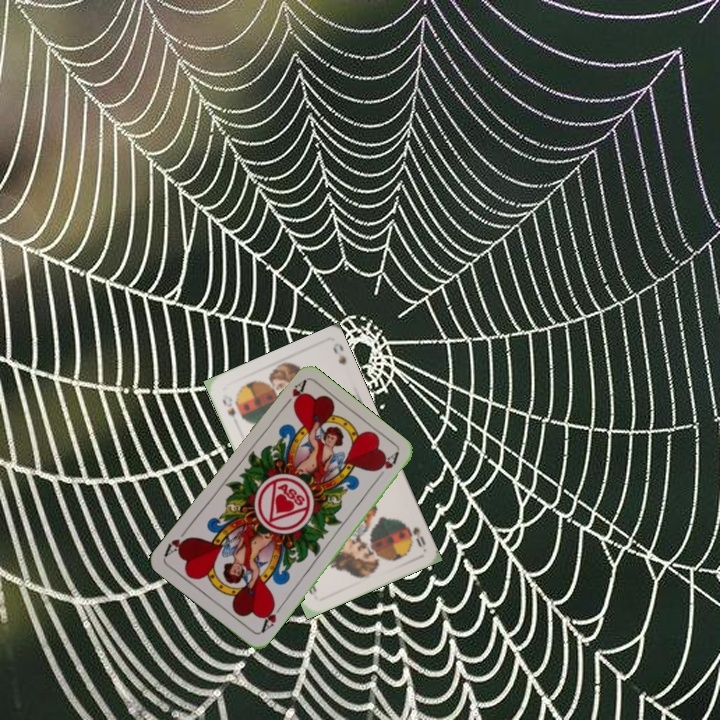HA: (256, 599, 286, 636), (278, 376, 308, 412)
SO: (400, 518, 428, 550), (218, 395, 241, 427)
